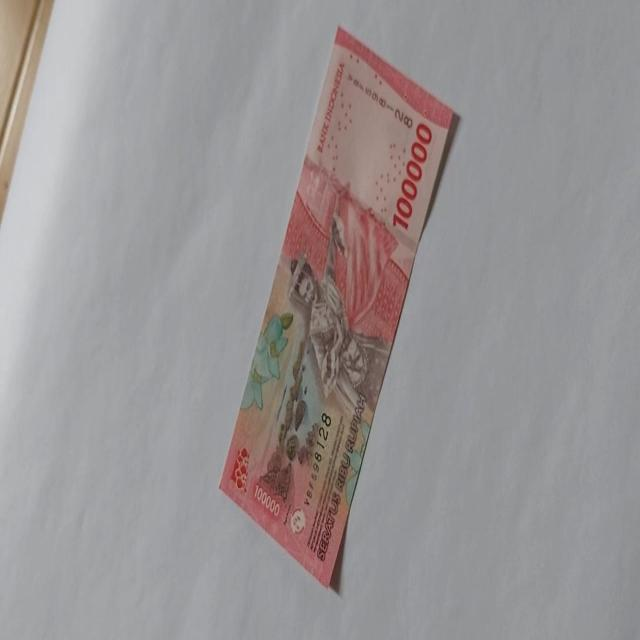Kertas: (392, 121, 432, 232)
